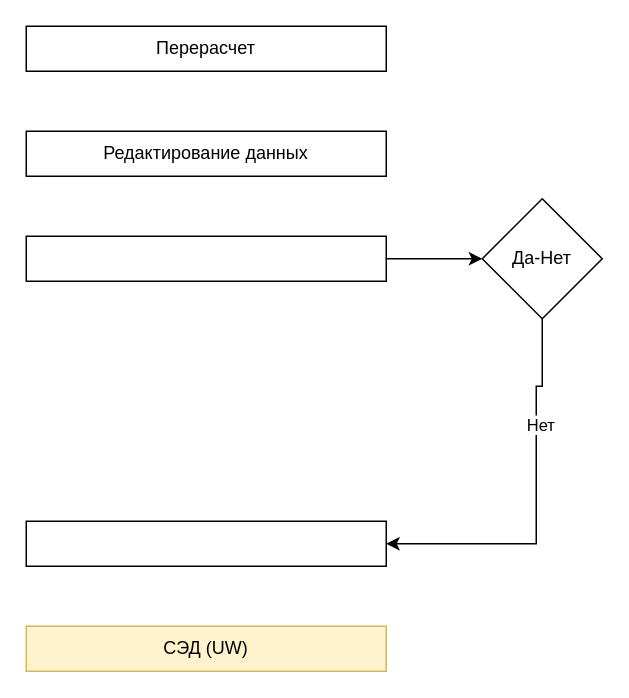
The diagram is 629 pixels wide and 698 high, and some of its shapes have lost their labels. Here are the shapes that lost their labels. From the top down, the box of each, then its label:
(25, 235, 386, 281): Декларация
(25, 520, 386, 566): Отправить на андеррайтинг
